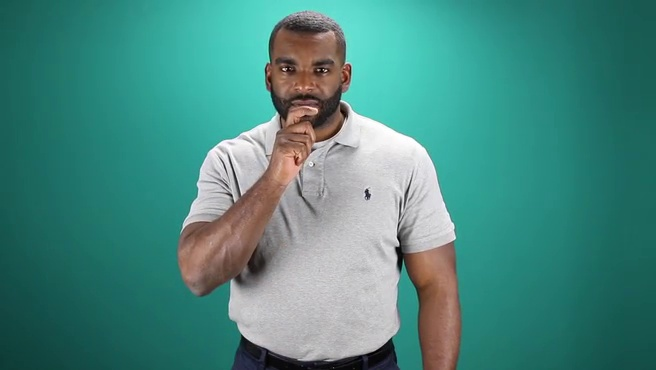who: (247, 77, 362, 180)
